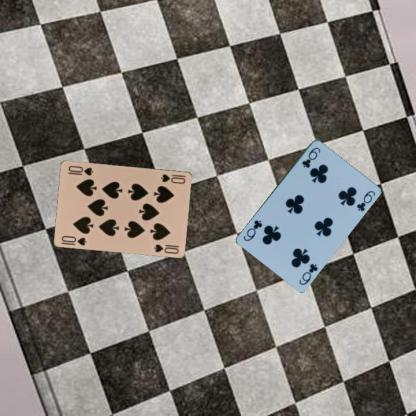10s: (158, 171, 187, 185), (59, 233, 88, 247)
6c: (299, 144, 322, 169), (296, 261, 319, 286)
